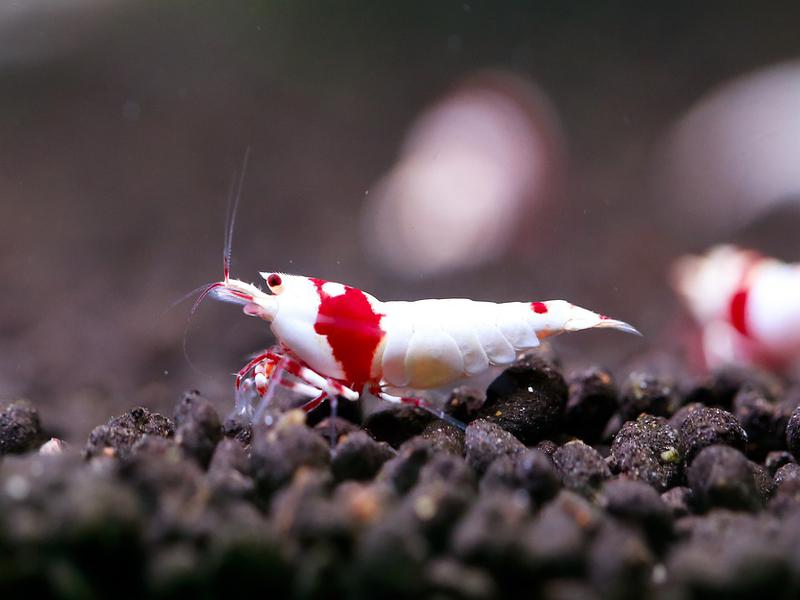shrimp: (214, 270, 641, 408)
